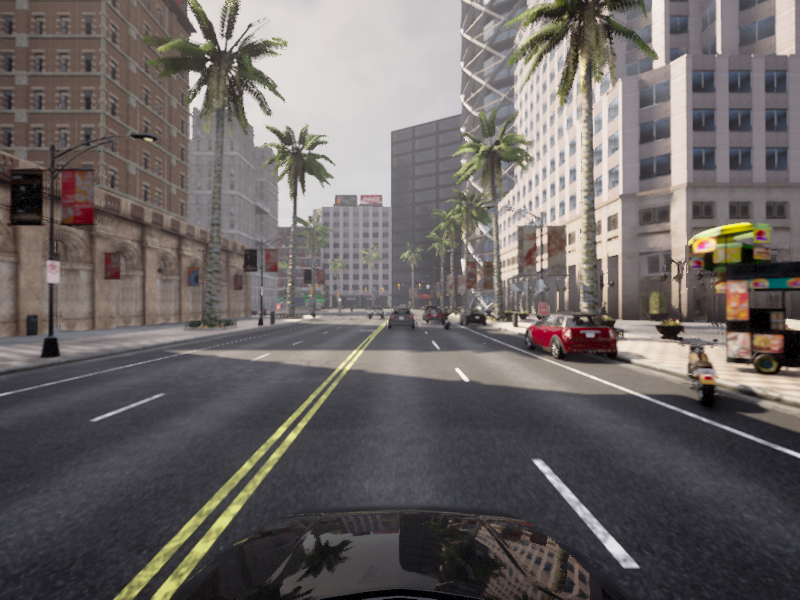vehicle: (387, 307, 415, 329), (423, 307, 446, 323), (391, 306, 412, 321), (422, 304, 439, 321), (439, 308, 452, 330)
